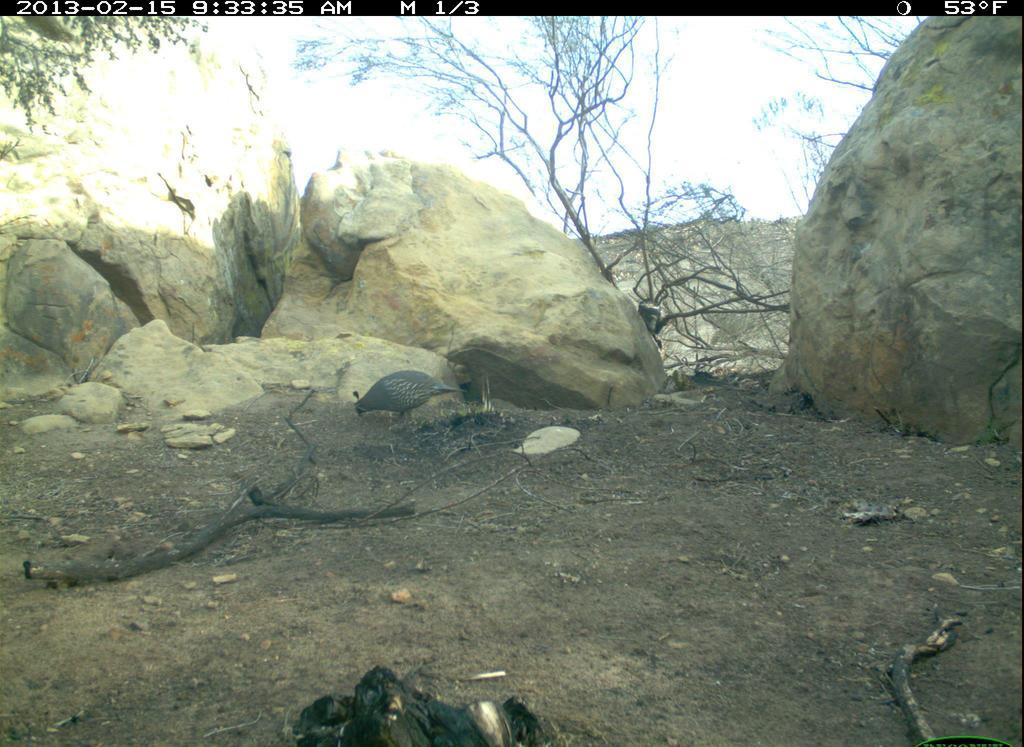bird: (338, 361, 468, 436)
